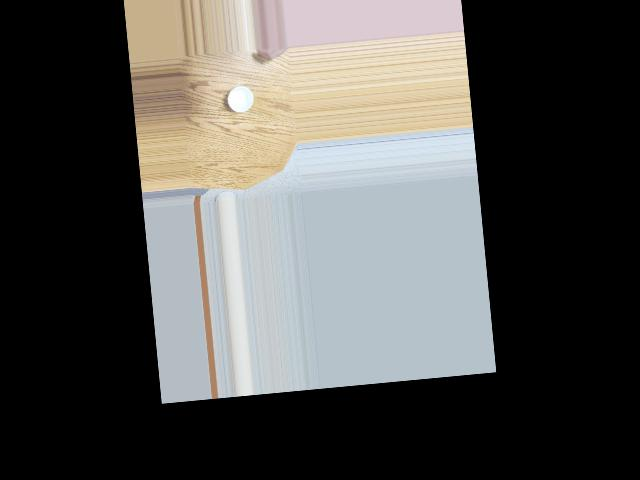cotage: (227, 81, 257, 113)
